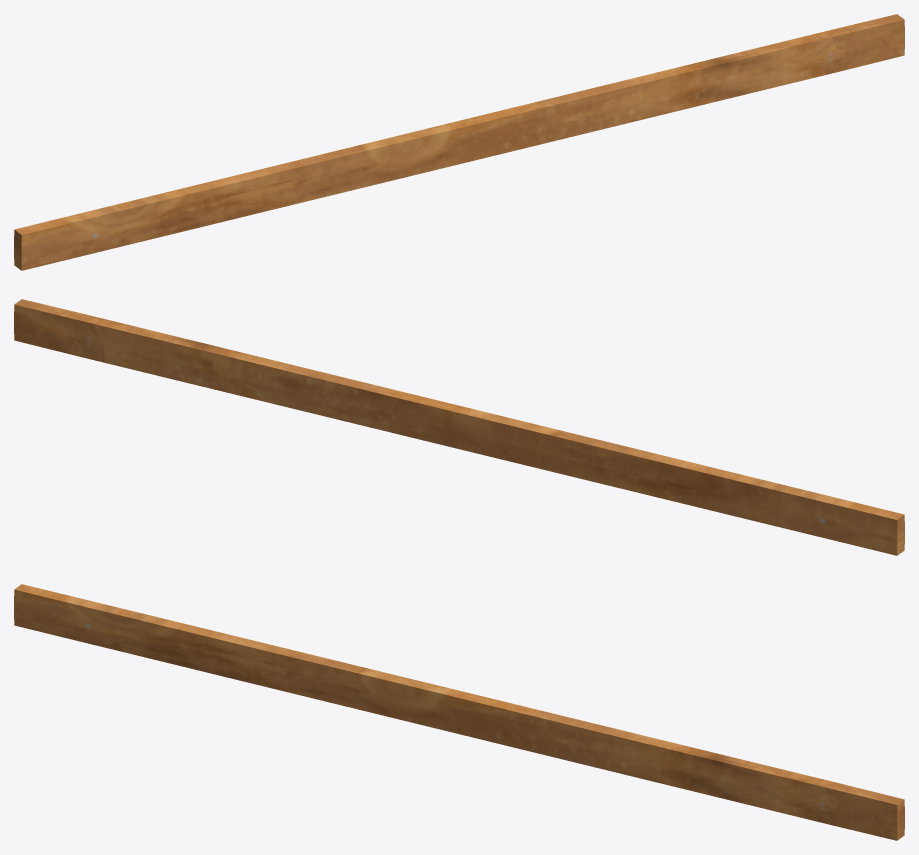
The model's file is Electrical_consturction_woodloghole_1_9.fbx.
3 renders of one model, top to bottom at view 1: azimuth 30°, elevation 25°; view 2: azimuth 150°, elevation 25°; view 3: azimuth 330°, elevation 25°, orthographic.
Parts seen in each view (by area): view 1: LMETB_woodlog_hole_02_geo, LMETB_woodlog_hole_09_geo; view 2: LMETB_woodlog_hole_02_geo, LMETB_woodlog_hole_09_geo; view 3: LMETB_woodlog_hole_02_geo, LMETB_woodlog_hole_09_geo.
Boxes of the visible parts, <box> form: LMETB_woodlog_hole_02_geo: <box>14,14,904,270</box>; LMETB_woodlog_hole_09_geo: <box>814,37,844,74</box>; LMETB_woodlog_hole_02_geo: <box>14,299,904,555</box>; LMETB_woodlog_hole_09_geo: <box>74,319,104,362</box>; LMETB_woodlog_hole_02_geo: <box>14,584,904,840</box>; LMETB_woodlog_hole_09_geo: <box>806,783,836,823</box>.
Bounding box in the file's own units: 85.86 × 3.41 × 1.38.
Materials: 1 (1 with a texture image).
